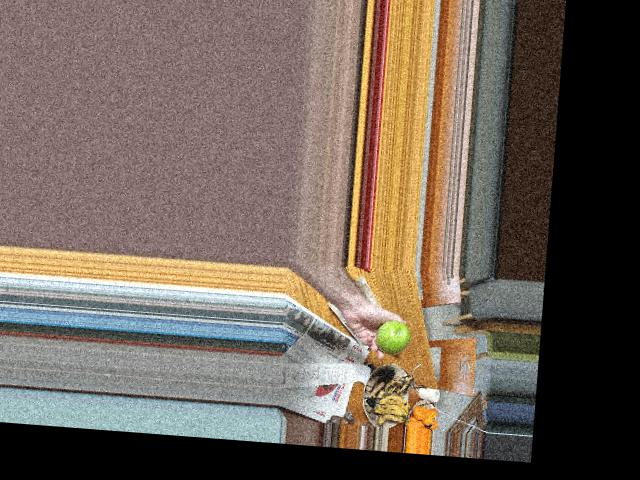apple: (372, 319, 411, 354)
